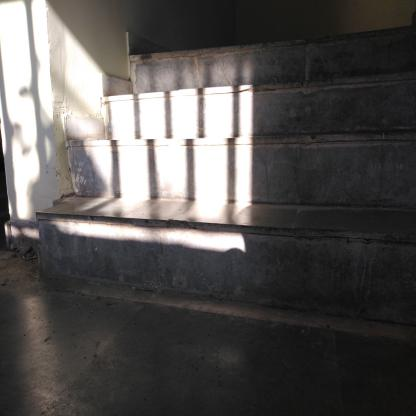stairs: (133, 39, 416, 327)
